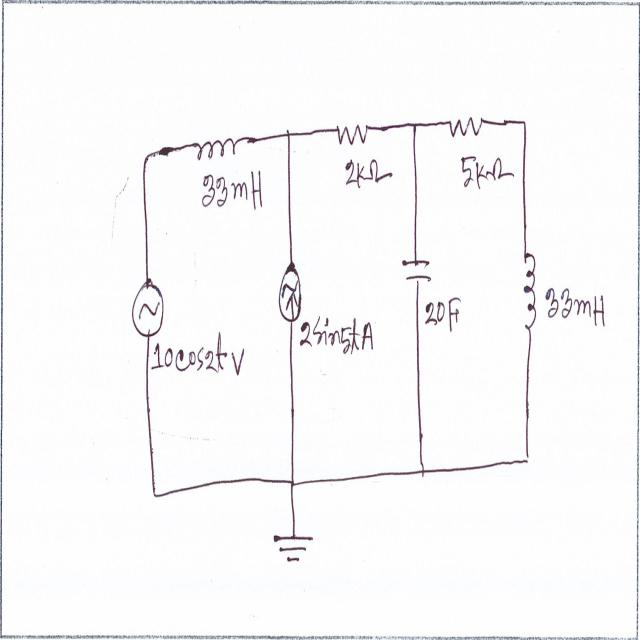ac_current: (130, 278, 166, 338)
capacitor: (397, 254, 436, 286)
current_source: (278, 254, 303, 320)
ground: (271, 529, 317, 573)
inductor: (193, 124, 250, 163), (522, 240, 540, 345)
resistor: (335, 105, 369, 153), (446, 106, 485, 142)
